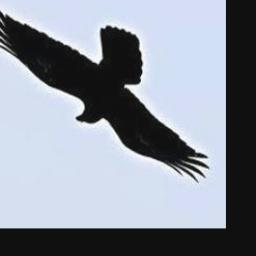Crow: (0, 3, 209, 183)
